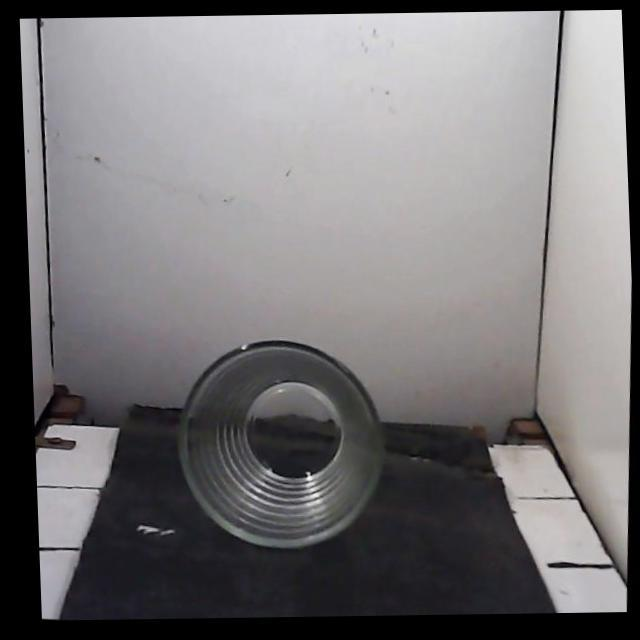vidro: (179, 342, 384, 546)
